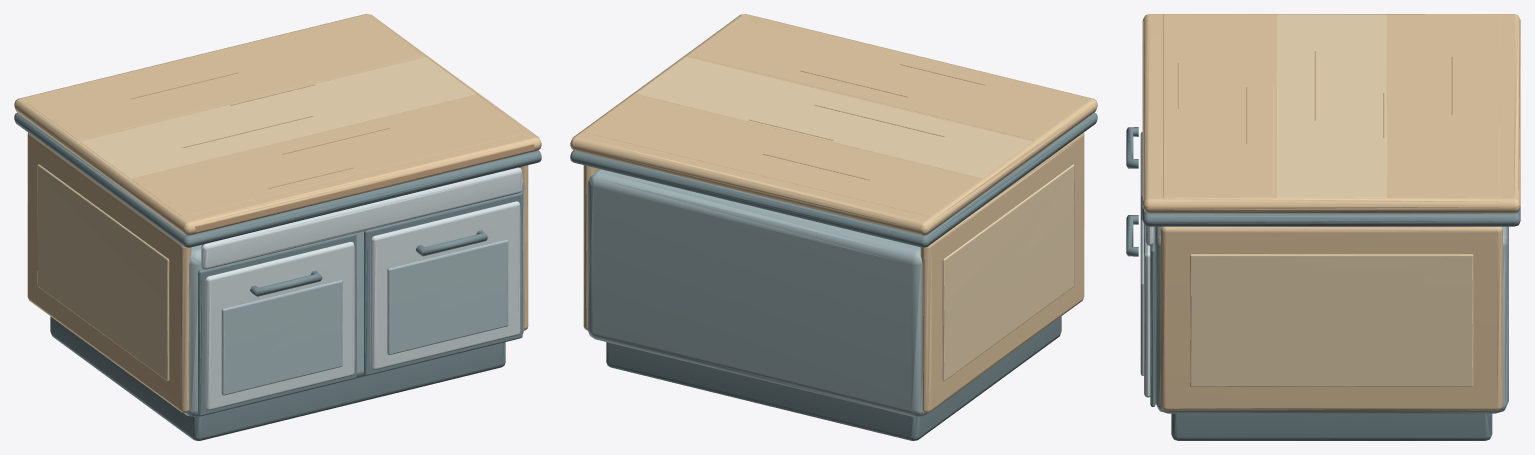
Rendered from CounterCorner.fbx.
3 renders of one model, left to right at view 1: azimuth 30°, elevation 25°; view 2: azimuth 150°, elevation 25°; view 3: azimuth 270°, elevation 25°, orthographic. The views are drawn at different scales.
Parts seen in each view (by area): view 1: CounterCorner; view 2: CounterCorner; view 3: CounterCorner.
Boxes of the visible parts, x1,y1,x2,y2 form: CounterCorner: [14, 14, 541, 440]; CounterCorner: [570, 14, 1097, 440]; CounterCorner: [1126, 14, 1520, 440].
Bounding box in the file's own units: 1.9 × 1.19 × 1.67.
